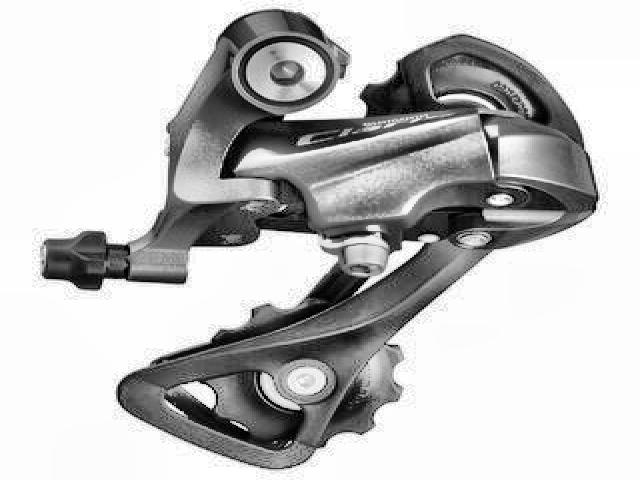rear_derailleur: (38, 6, 605, 477)
